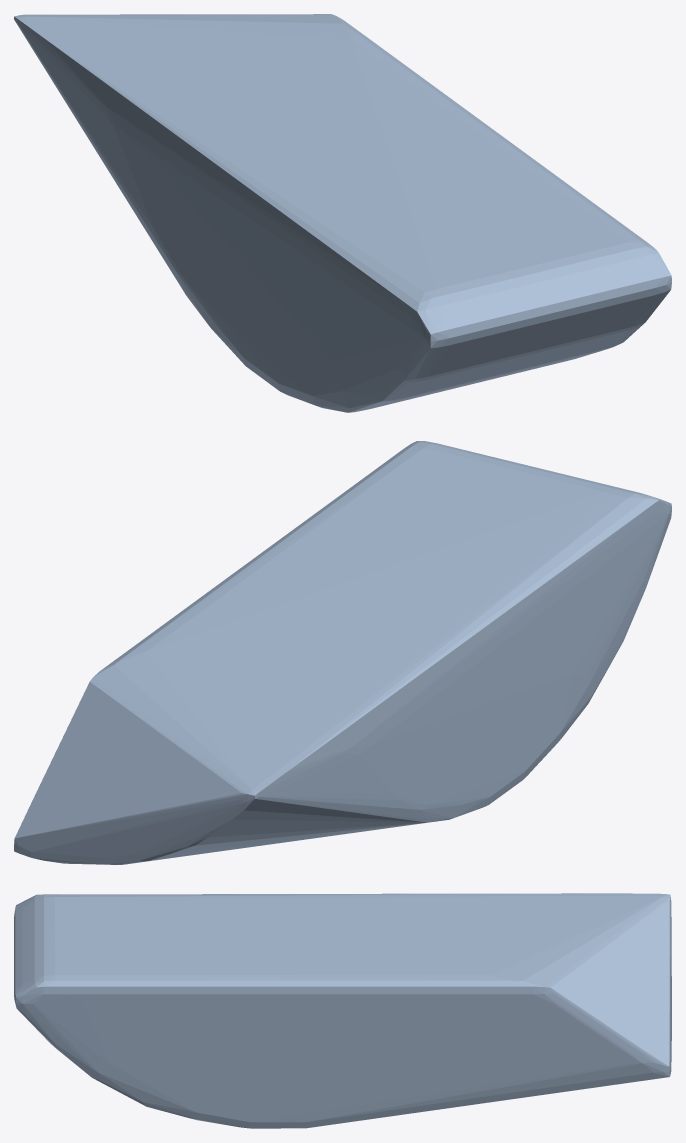
Rendered from right-hip-roll-0_part_6.obj.
3 views of the same model, one above another, from view 1: azimuth 30°, elevation 25°; view 2: azimuth 150°, elevation 25°; view 3: azimuth 270°, elevation 25° (orthographic). The views are drawn at different scales.
Size of the model in its own units: 0.0268 by 0.0198 by 0.0788.
